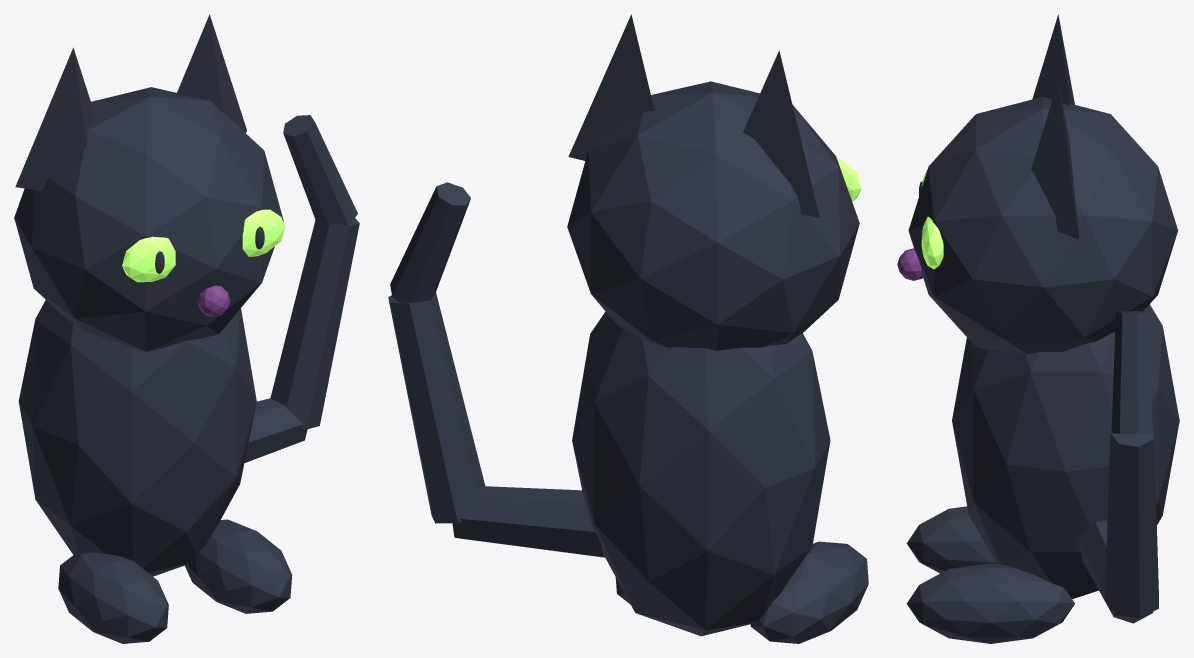
Rendered from black-cat.glb.
The picture shows the model from 3 angles, left to right: view 1: azimuth 30°, elevation 25°; view 2: azimuth 150°, elevation 25°; view 3: azimuth 270°, elevation 25°; orthographic projection. The views are drawn at different scales.
Parts seen in each view (by area): view 1: black-cat; view 2: black-cat; view 3: black-cat.
Boxes of the visible parts, box(x1,y1,x2,y2) form: black-cat: box(14, 14, 359, 643); black-cat: box(388, 14, 868, 643); black-cat: box(897, 14, 1179, 643).
Size of the model in its own units: 0.5688 by 0.8275 by 0.377.
